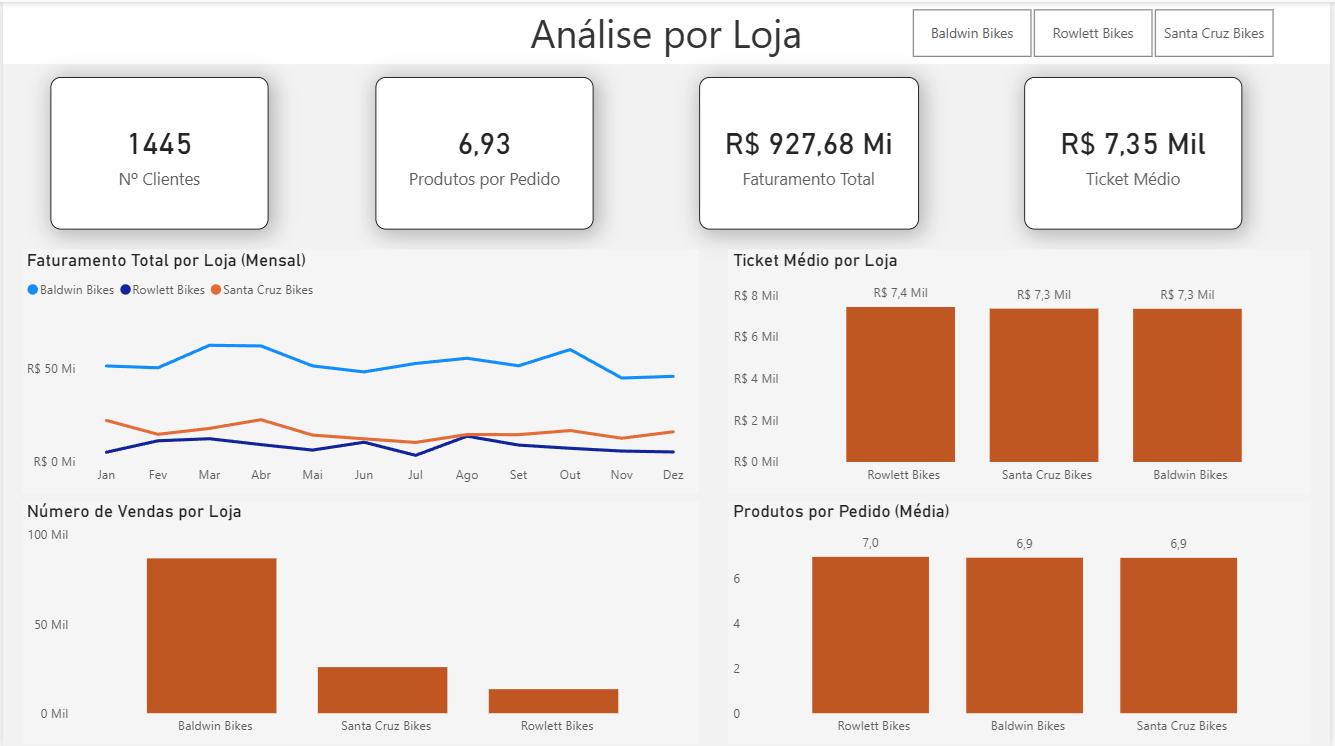

The page's visual inventory and layout, read from the dashboard file:
{"tool":"powerbi","page":{"name":"Análise por Loja","canvas":[1280,720],"ordinal":1},"visuals":[{"type":"card","fields":{"Values":["#Medidas.Faturamento Total"]},"box":[672,72.2,211.7,146.9],"z":0},{"type":"card","fields":{"Values":["#Medidas.Nº Clientes"]},"box":[46.1,72.2,210.4,146.9],"z":1000},{"type":"card","fields":{"Values":["#Medidas.Ticket Médio"]},"box":[986.1,72.2,210.4,146.9],"z":2000},{"type":"card","fields":{"Values":["#Medidas.Produtos por Pedido"]},"box":[359,72.2,210.4,146.9],"z":3000},{"type":"slicer","fields":{"Values":["Sales Store.Name"]},"box":[851.7,0,398.4,59.8],"z":4000},{"type":"lineChart","title":"Faturamento Total por Loja (Mensal)","fields":{"Y":["#Medidas.Faturamento Total"],"Category":["Dim_calendario.Mes Abv"],"Series":["Sales Store.Name"]},"box":[18.1,238.9,653.9,235.3],"z":5000},{"type":"columnChart","title":"Ticket Médio por Loja","fields":{"Y":["#Medidas.Ticket Médio"],"Category":["Sales Store.Name"]},"box":[699.7,238.9,562.2,235.3],"z":6000},{"type":"columnChart","title":"Produtos por Pedido (Média)","fields":{"Y":["#Medidas.Produtos por Pedido"],"Category":["Sales Store.Name"]},"box":[699.7,481.4,562.2,235.3],"z":7000},{"type":"columnChart","title":"Número de Vendas por Loja","fields":{"Y":["#Medidas.Nº Vendas"],"Category":["Sales Store.Name"]},"box":[18.1,481.4,653.9,235.3],"z":8000},{"type":"textbox","box":[493.4,0,293.2,60.3],"z":9000}]}

Visuals, with their boxes in screenshot pixels (x1, y1, x2, y2), scaled from the page's 1280x720 canvas onto the 1335x746 screenshot:
card - #Medidas.Faturamento Total: (left=701, top=75, right=922, bottom=227)
card - #Medidas.Nº Clientes: (left=48, top=75, right=268, bottom=227)
card - #Medidas.Ticket Médio: (left=1028, top=75, right=1248, bottom=227)
card - #Medidas.Produtos por Pedido: (left=374, top=75, right=594, bottom=227)
slicer - Sales Store.Name: (left=888, top=0, right=1304, bottom=62)
"Faturamento Total por Loja (Mensal)" lineChart: (left=19, top=248, right=701, bottom=491)
"Ticket Médio por Loja" columnChart: (left=730, top=248, right=1316, bottom=491)
"Produtos por Pedido (Média)" columnChart: (left=730, top=499, right=1316, bottom=743)
"Número de Vendas por Loja" columnChart: (left=19, top=499, right=701, bottom=743)
textbox: (left=515, top=0, right=820, bottom=62)
